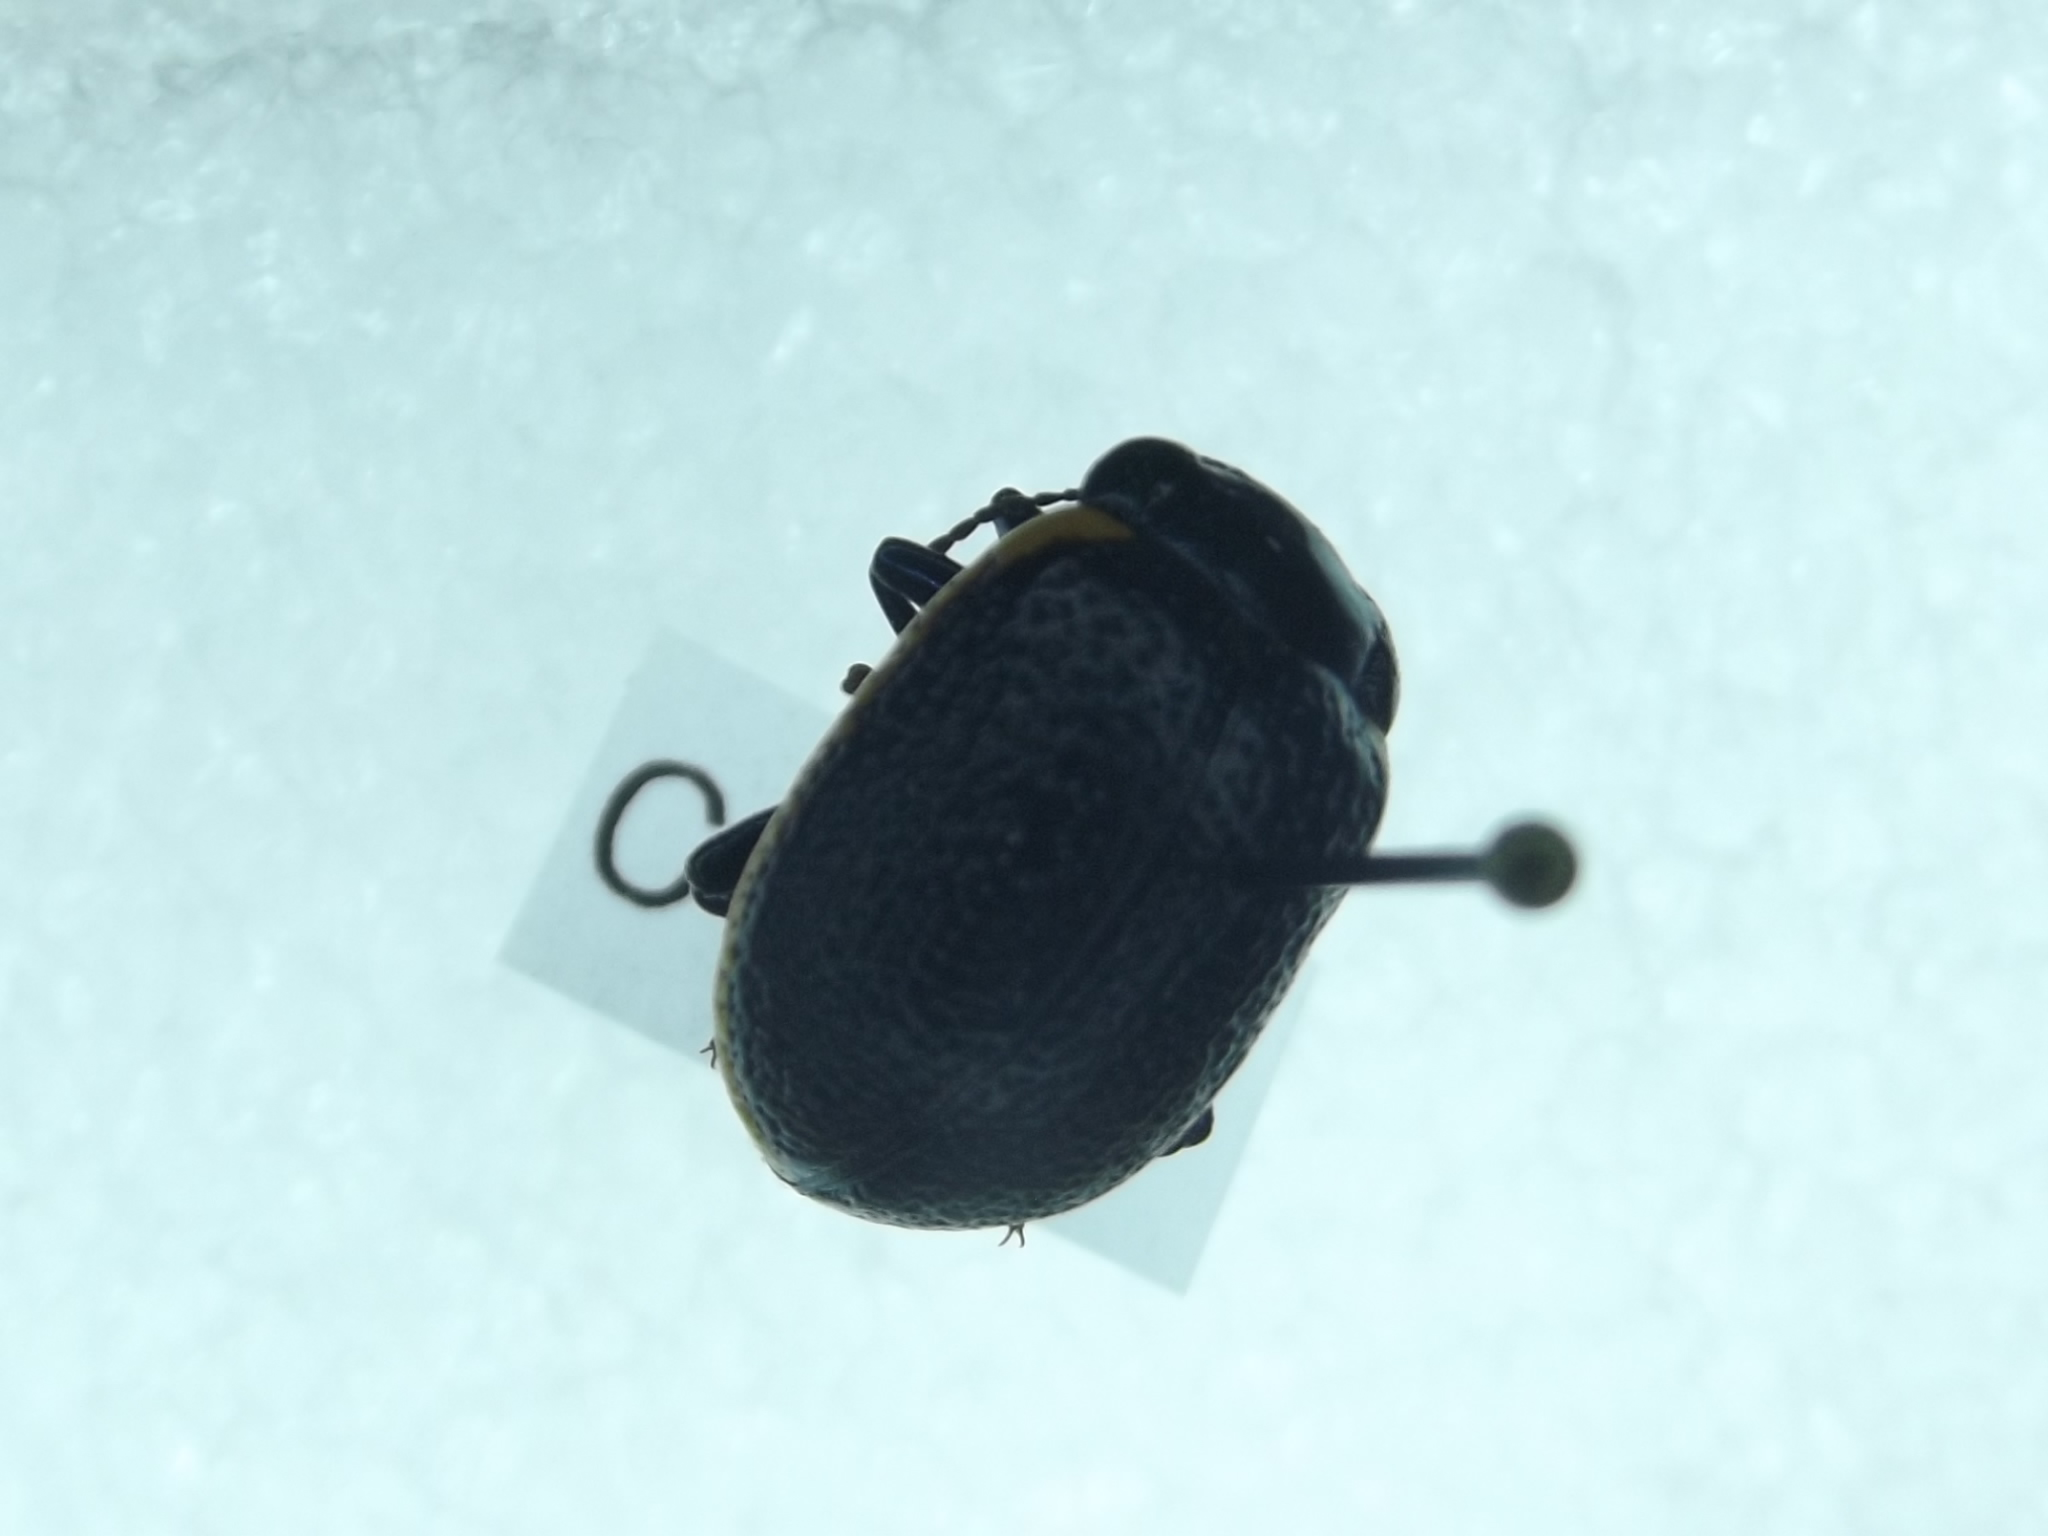Chrysolina_gypsophila: (682, 418, 1417, 1258)
